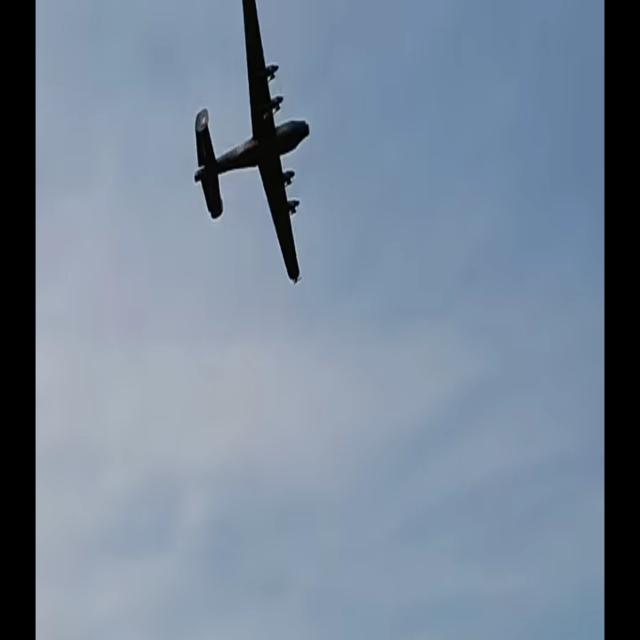iha: (225, 0, 279, 289)
